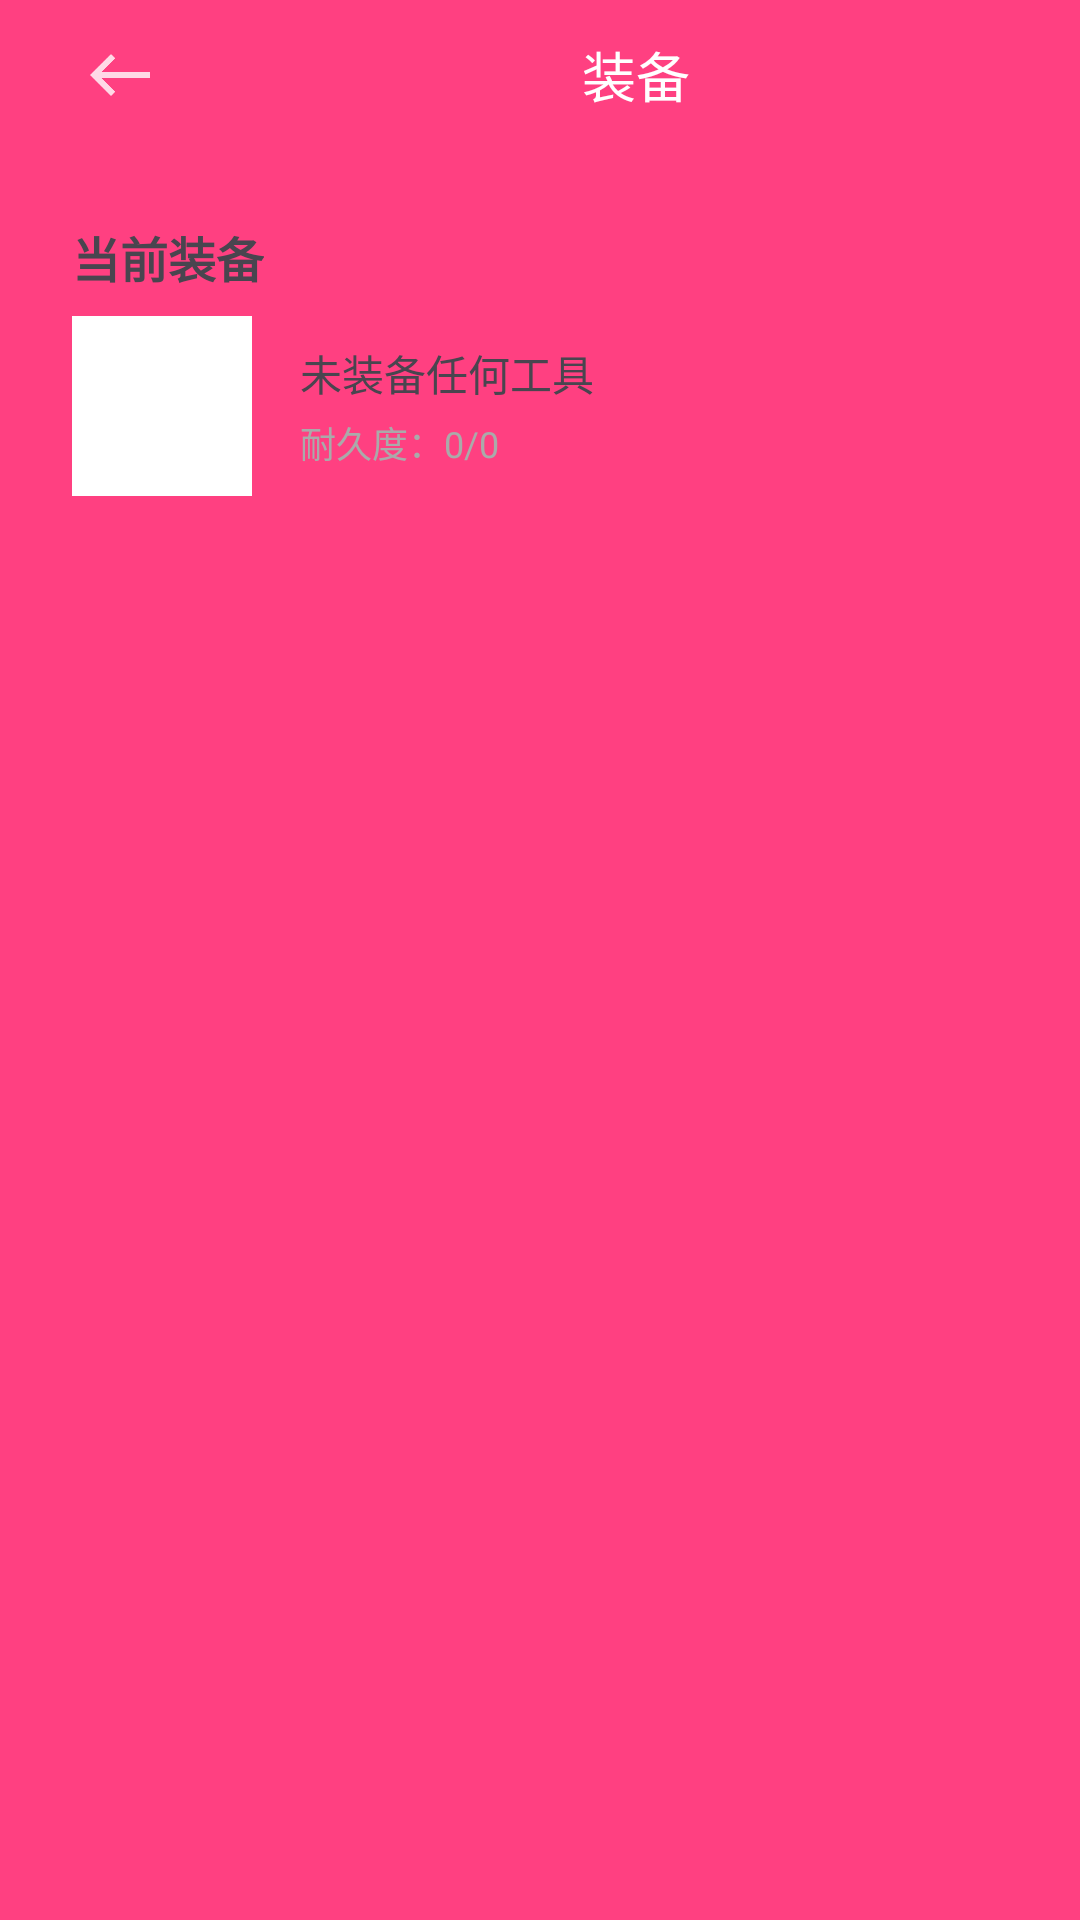

Icons on this 1080×1920 Android screen, each with its box as (x1, y1, x2, y2):
返回: (90, 54, 150, 96)
